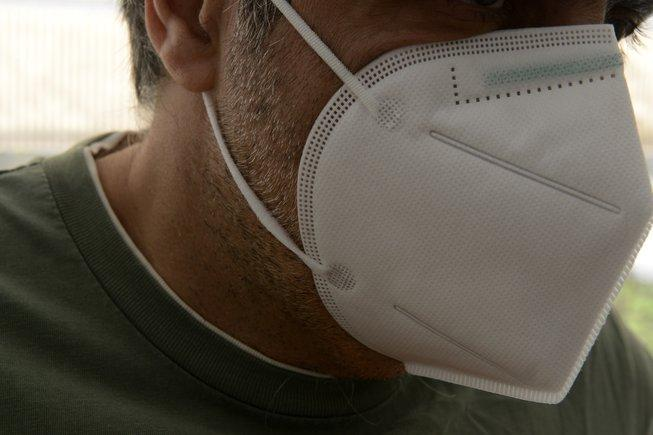with_mask: (140, 3, 653, 379)
